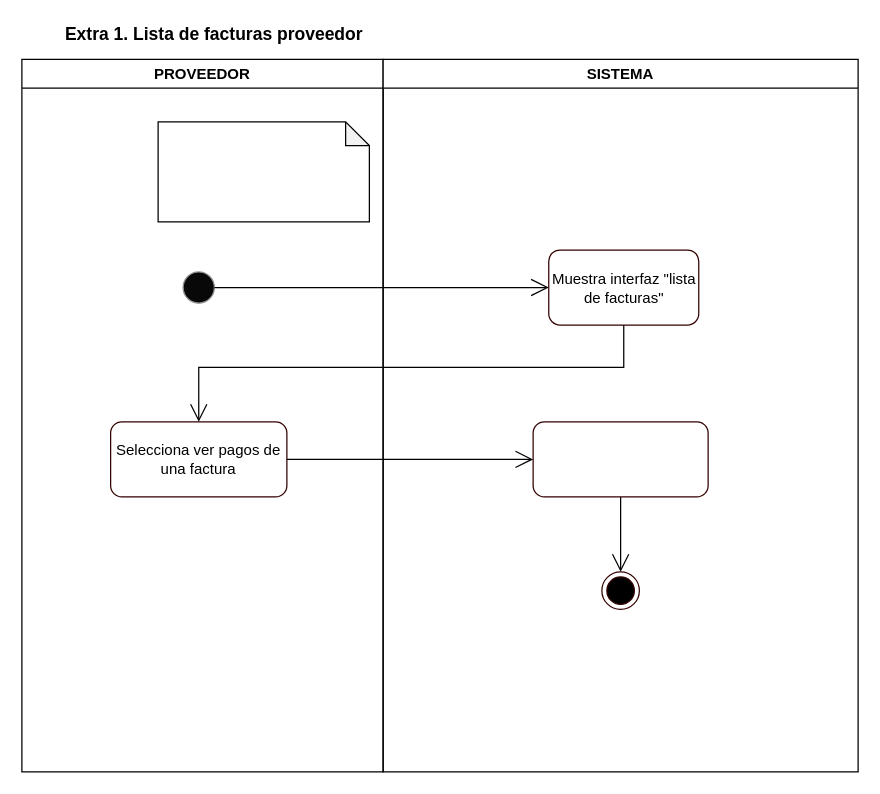
Some shapes in this 880 by 794 pixel diagram are drawn without their labels. Each missing label, with the centre of its shape:
Este flujo se inicia cuando el proveedor selecciona lista de facturas: (263,171)
Muestra los pagos de la factura respectiva: (620,459)
